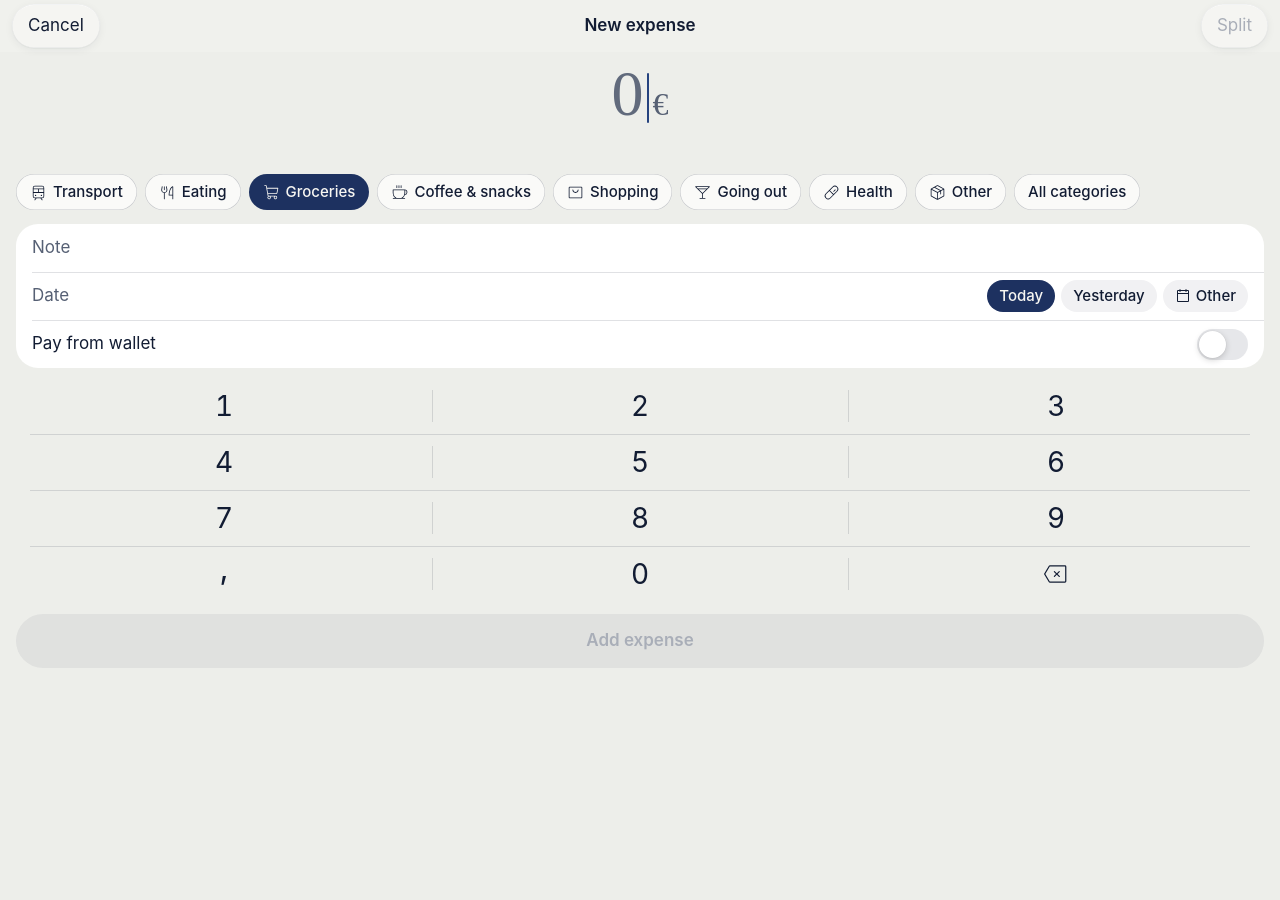
Scenario: splitting the bill (§3.16, EXTRAS.md §2.1 to §2.4) › says under the row when what someone owes is not an amount
Click the button with test id "keypad-1". click: (224, 406)
box: x1=16 y1=378 x2=432 y2=434
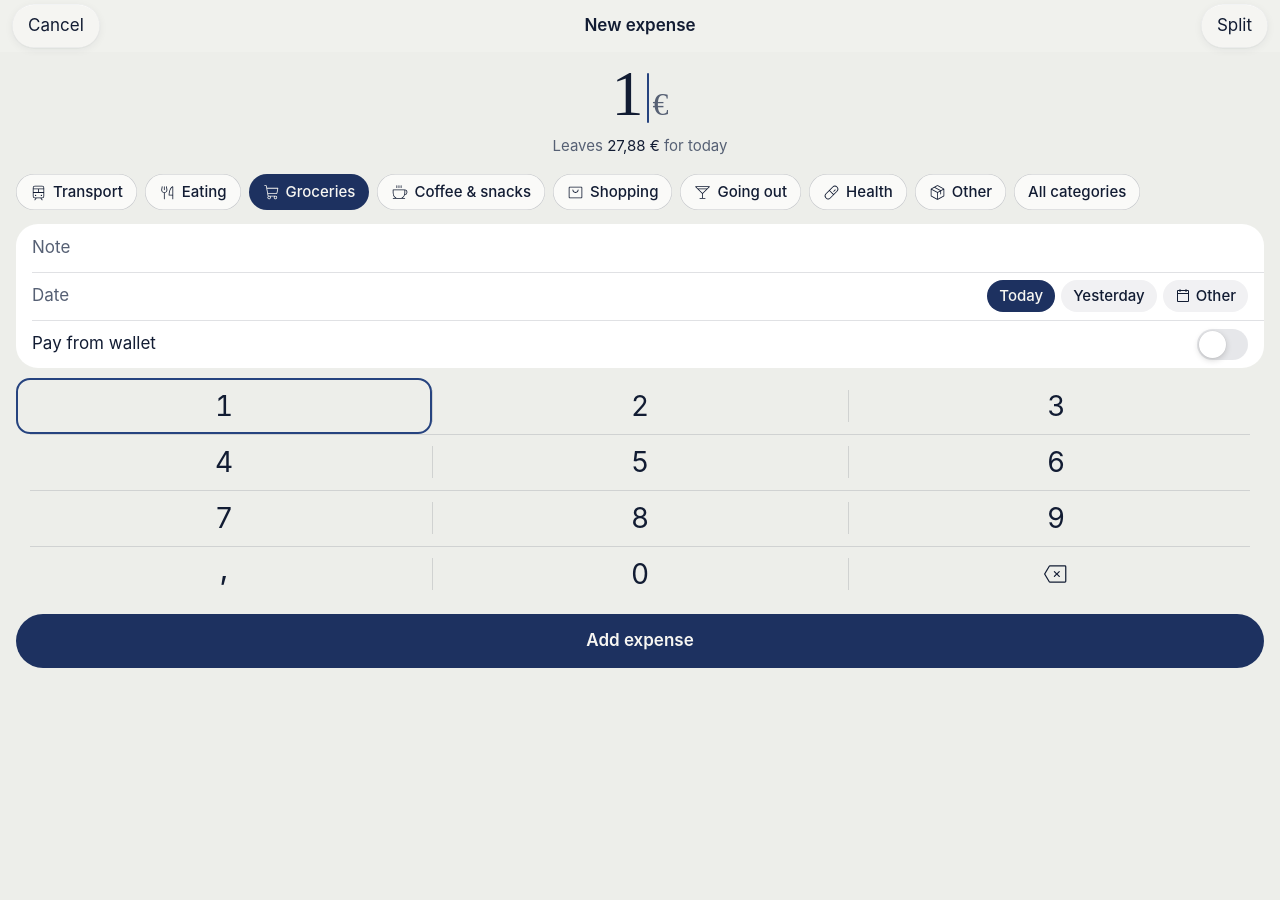
Click the button "8". click: (640, 518)
box: x1=432 y1=490 x2=848 y2=546
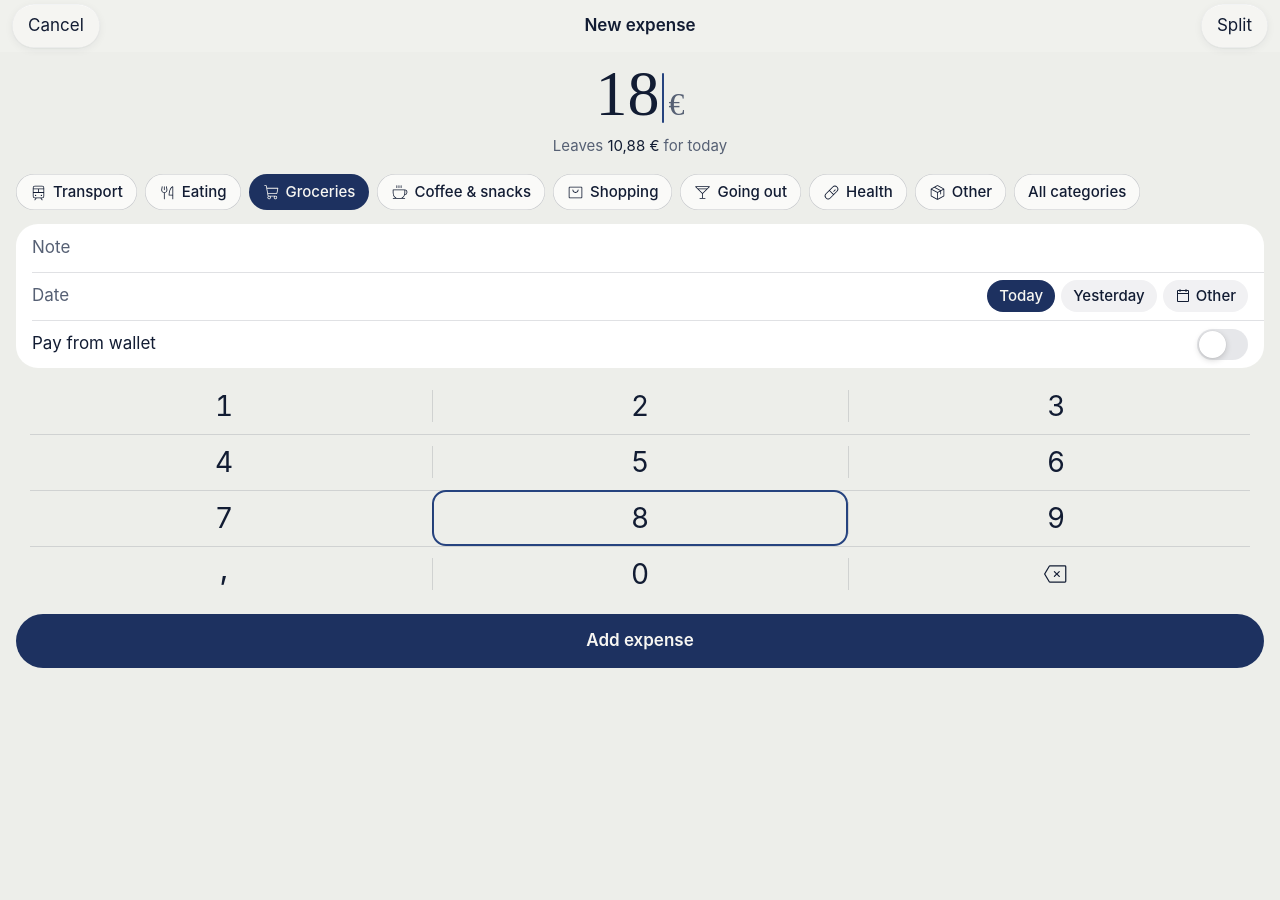
Click the button with test id "split-toggle". click: (1234, 26)
box: x1=1201 y1=4 x2=1268 y2=48
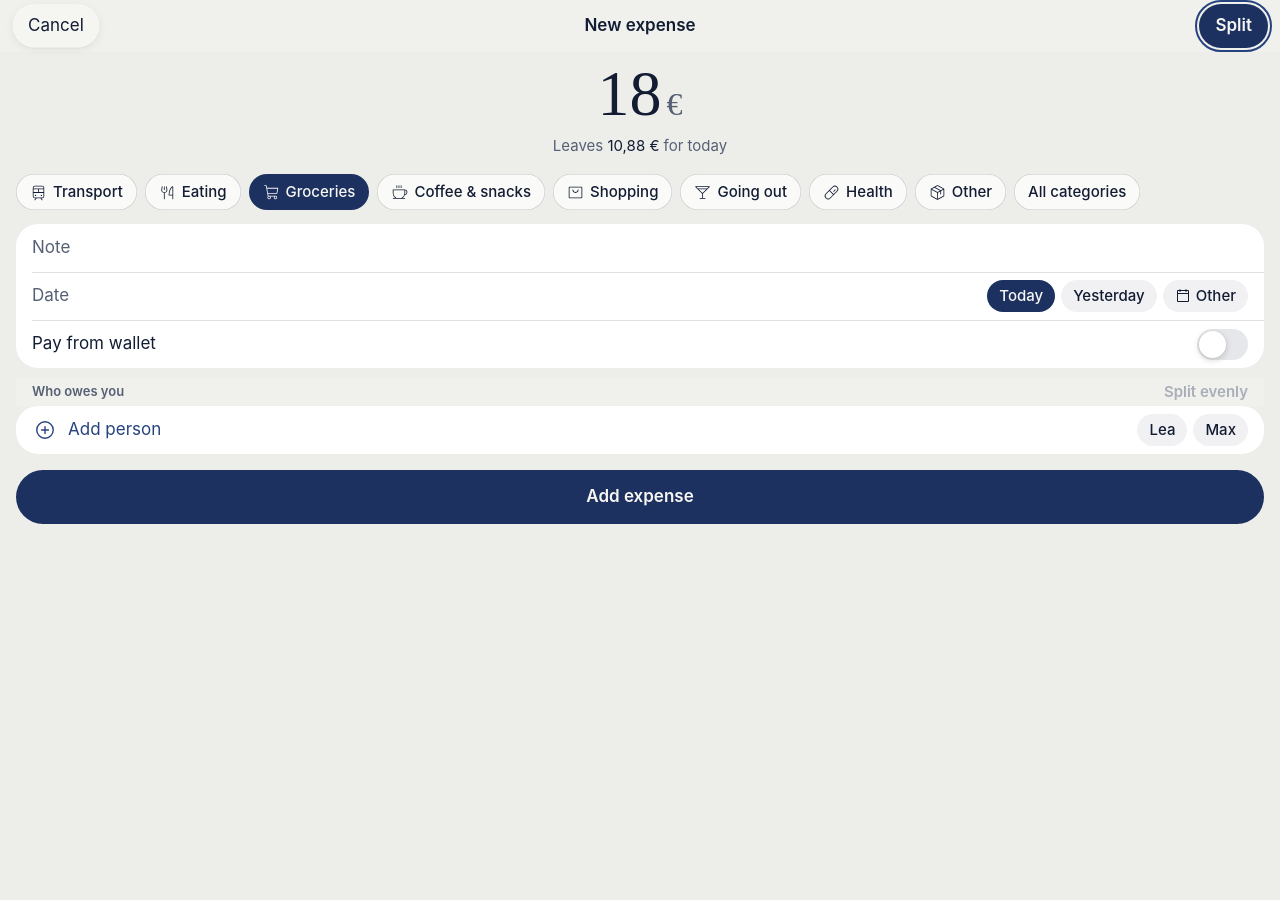
Click the button with aria-label "Add Lea". click: (1162, 430)
box: x1=1138 y1=414 x2=1188 y2=446
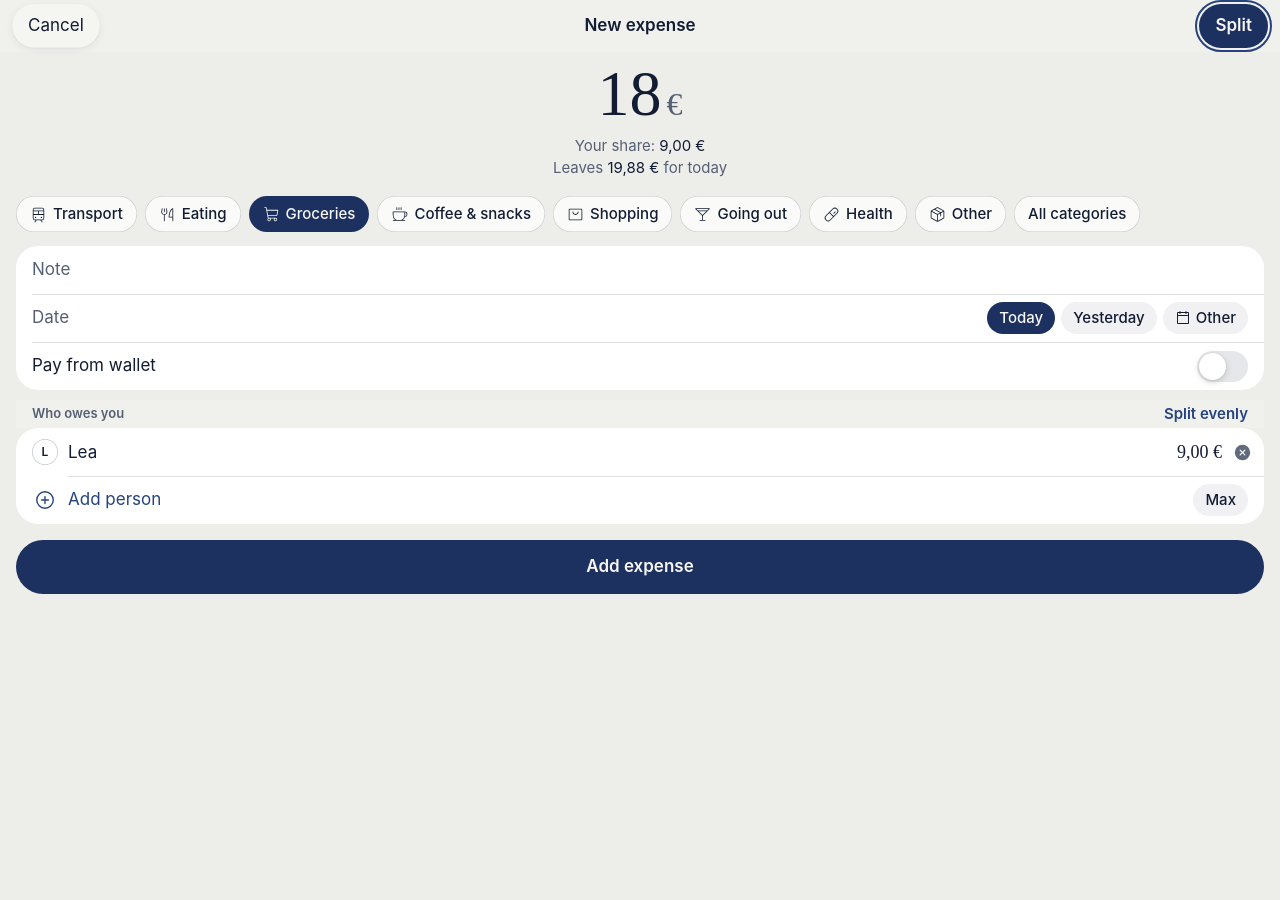
Replace the text in the field named "Lea owes" with "abc". click: (1167, 452)
box: x1=1112 y1=430 x2=1222 y2=474
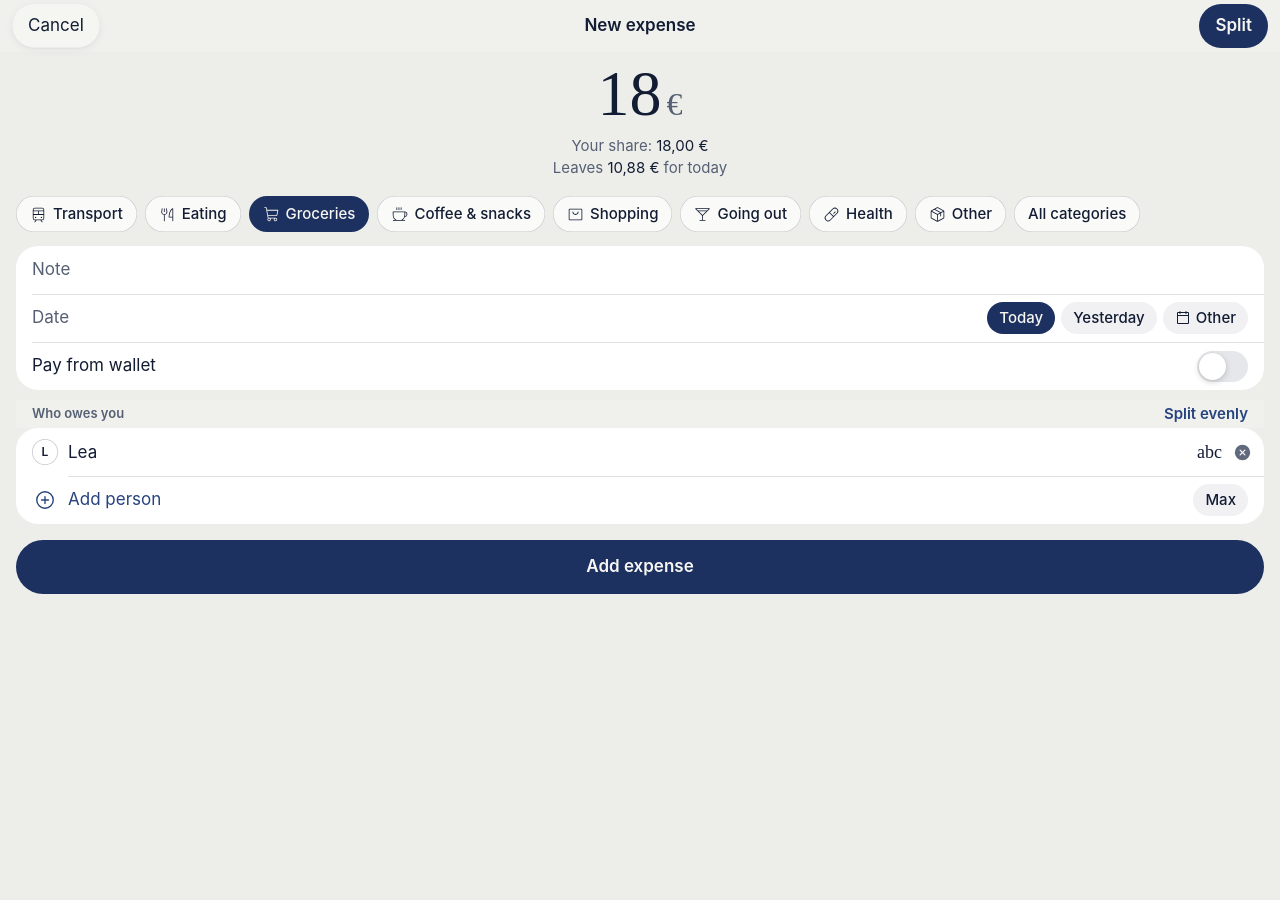
Press Tab
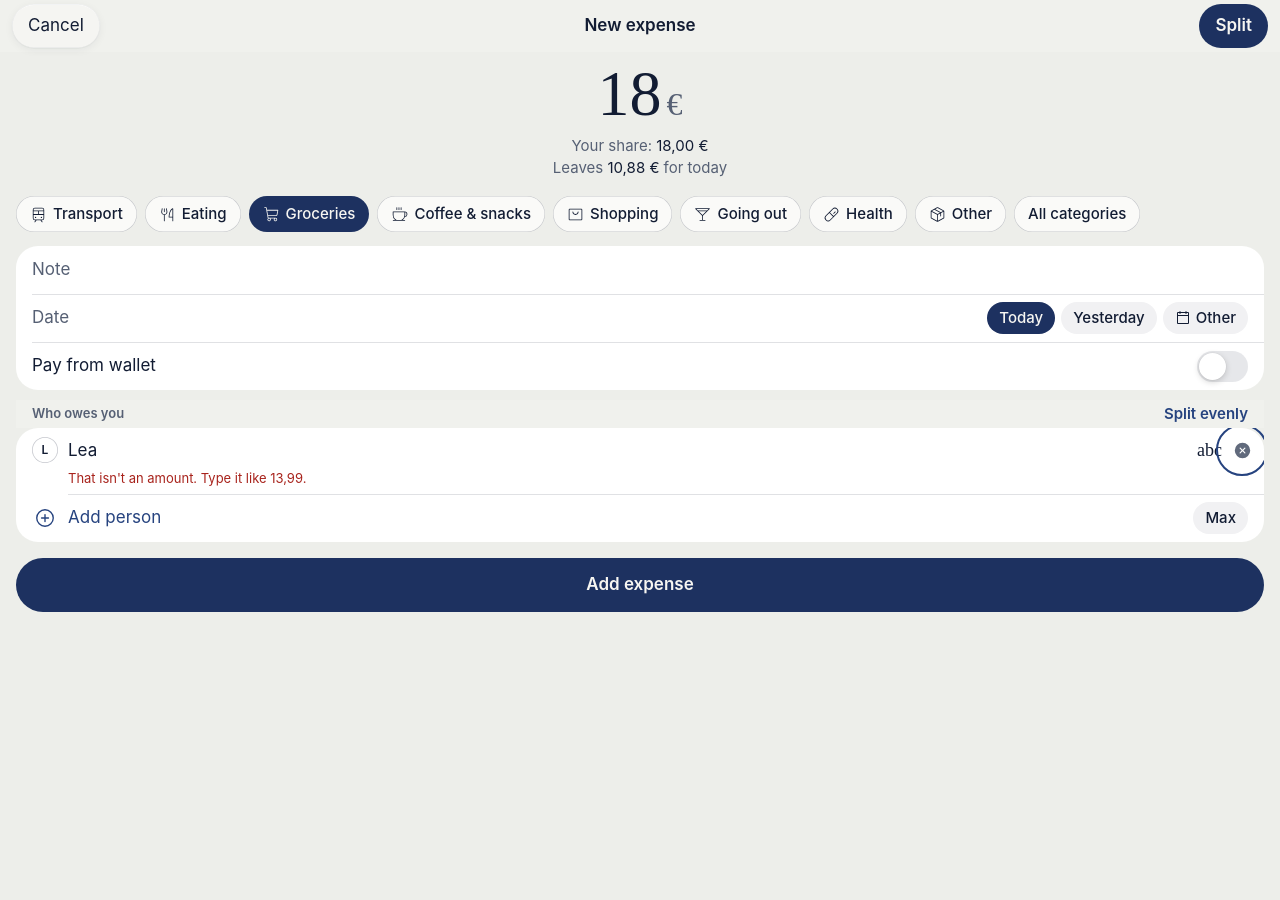
Result: the text "That isn't an amount. Type it like 13,99." is shown at x1=68 y1=470 x2=306 y2=486
